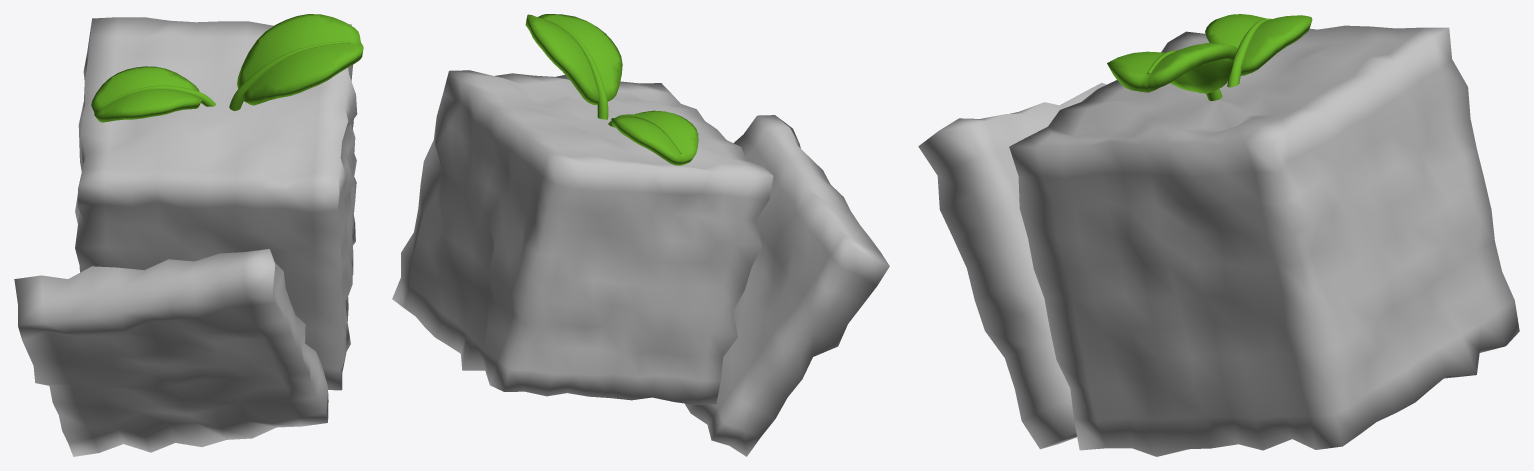
Rendered from sugar-cubes-with-leaves.glb.
The picture shows the model from 3 angles, left to right: view 1: azimuth 30°, elevation 25°; view 2: azimuth 150°, elevation 25°; view 3: azimuth 270°, elevation 25°; orthographic projection. The views are drawn at different scales.
Parts seen in each view (by area): view 1: Tofu (×2), Tofu .001, Tofu .002; view 2: Tofu (×2), Tofu .001, Tofu .002; view 3: Tofu (×2), Tofu .001, Tofu .002.
Boxes of the visible parts, left/top/right/bottom form: Tofu (×2): left=14, top=17, right=357, bottom=456; Tofu .001: left=229, top=14, right=363, bottom=110; Tofu .002: left=91, top=66, right=215, bottom=122; Tofu (×2): left=392, top=70, right=889, bottom=456; Tofu .001: left=525, top=14, right=622, bottom=119; Tofu .002: left=608, top=110, right=698, bottom=165; Tofu (×2): left=918, top=25, right=1519, bottom=456; Tofu .001: left=1107, top=43, right=1236, bottom=100; Tofu .002: left=1205, top=14, right=1312, bottom=87.
Size of the model in its own units: 9.47 by 8.23 by 9.16.
